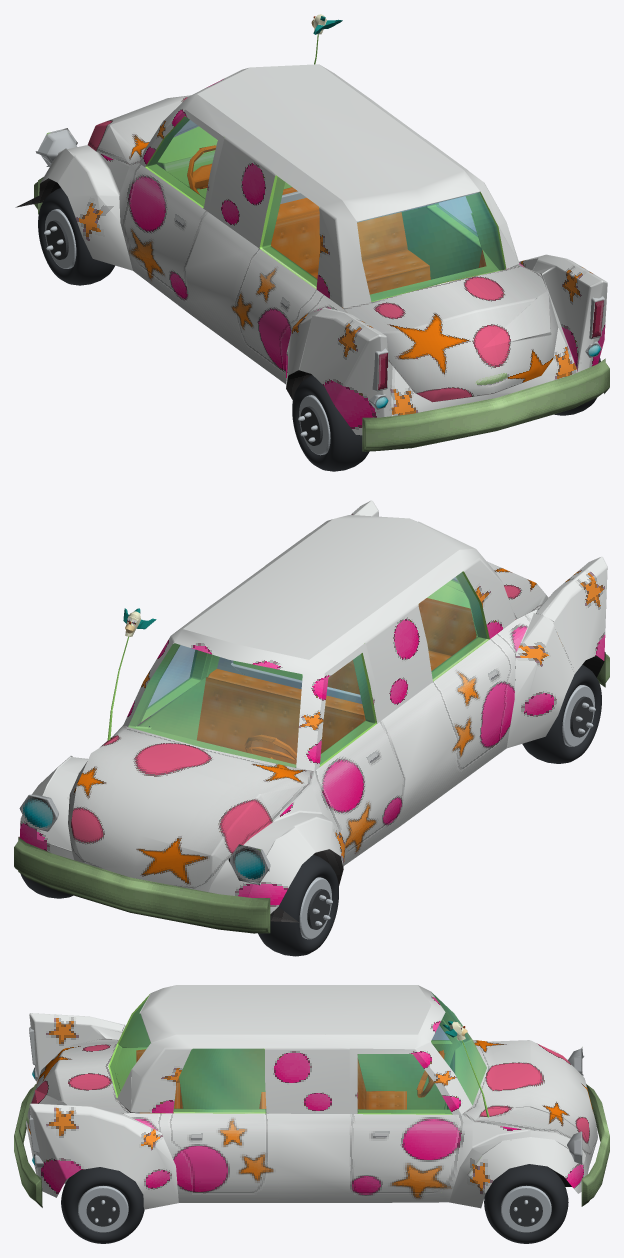
File: car-cklimo.glb
3 renders of one model, top to bottom at view 1: azimuth 30°, elevation 25°; view 2: azimuth 150°, elevation 25°; view 3: azimuth 270°, elevation 25°, orthographic. The views are drawn at different scales.
Parts seen in each view (by area): view 1: cKlimoShape.006, cKlimoShape.001, cKlimoShape.008, cKlimoShape.002, cKlimoShape.007, windShape6, cKlimoShape.005, DoorDRotShape.038, windShape2, DoorDWindShape.002, cKlimoShape.004, Rounded tire.062 (+7 smaller); view 2: cKlimoShape.006, cKlimoShape.004, cKlimoShape.008, cKlimoShape.002, windShape.001, cKlimoShape.005, DoorDRotShape.038, cKlimoShape.007, windShape2, DoorDWindShape.002, Rounded tire.060, DoorPRotShape.045 (+10 smaller); view 3: cKlimoShape.006, cKlimoShape.003, cKlimoShape.008, cKlimoShape.004, cKlimoShape.007, DoorPRotShape.043, cKlimoShape.001, windShape7, DoorPWindShape.002, Rounded tire.061, DoorDRotShape.040, Rounded tire.063 (+9 smaller).
Part boxes in pixels (x1,y1,x2,y2): cKlimoShape.006: [40, 65, 607, 435]; cKlimoShape.001: [343, 265, 609, 451]; cKlimoShape.008: [197, 64, 479, 222]; cKlimoShape.002: [119, 163, 540, 384]; cKlimoShape.007: [35, 116, 604, 391]; windShape6: [357, 192, 504, 300]; cKlimoShape.005: [187, 145, 486, 308]; DoorDRotShape.038: [124, 164, 208, 301]; windShape2: [262, 177, 319, 286]; DoorDWindShape.002: [147, 117, 216, 206]; cKlimoShape.004: [34, 95, 198, 214]; Rounded tire.062: [292, 375, 369, 471]; cKlimoShape.006: [19, 500, 607, 913]; cKlimoShape.004: [14, 725, 314, 933]; cKlimoShape.008: [183, 515, 475, 703]; cKlimoShape.002: [311, 608, 538, 865]; windShape.001: [128, 643, 302, 767]; cKlimoShape.005: [197, 598, 476, 764]; DoorDRotShape.038: [314, 720, 405, 853]; cKlimoShape.007: [19, 571, 489, 885]; windShape2: [419, 572, 486, 678]; DoorDWindShape.002: [320, 654, 374, 764]; Rounded tire.060: [258, 854, 338, 956]; DoorPRotShape.045: [128, 645, 211, 739]; cKlimoShape.006: [27, 985, 596, 1209]; cKlimoShape.003: [128, 1113, 472, 1202]; cKlimoShape.008: [139, 985, 431, 1042]; cKlimoShape.004: [462, 1040, 609, 1206]; cKlimoShape.007: [29, 992, 584, 1167]; DoorPRotShape.043: [349, 1114, 462, 1192]; cKlimoShape.001: [14, 1038, 129, 1207]; windShape7: [173, 1049, 265, 1111]; DoorPWindShape.002: [358, 1054, 451, 1113]; Rounded tire.061: [484, 1164, 568, 1243]; DoorDRotShape.040: [357, 1019, 461, 1109]; Rounded tire.063: [61, 1167, 144, 1243].
Bounding box in the file's own units: 2.45 × 2 × 5.21.
14 materials, 11 textured.
